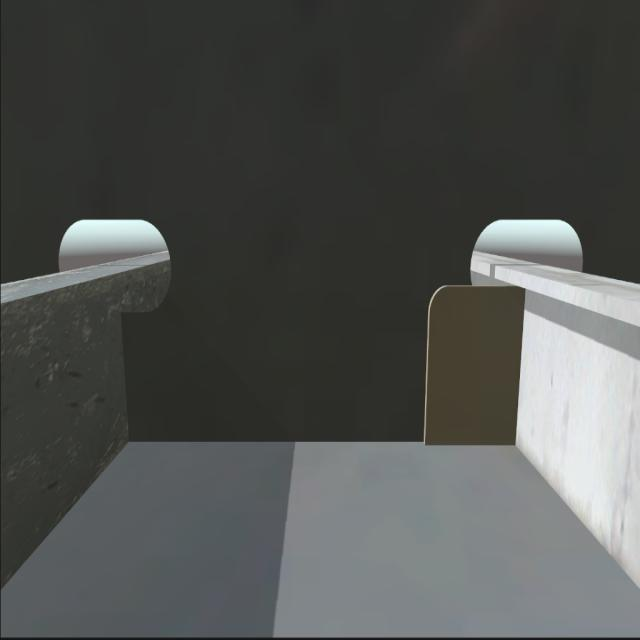fillet_yong_jeop_jang: (124, 436, 520, 450)
longi_yong_jeop_jang: (116, 312, 135, 435), (514, 281, 524, 447)
plate_CP05: (425, 280, 523, 445)
